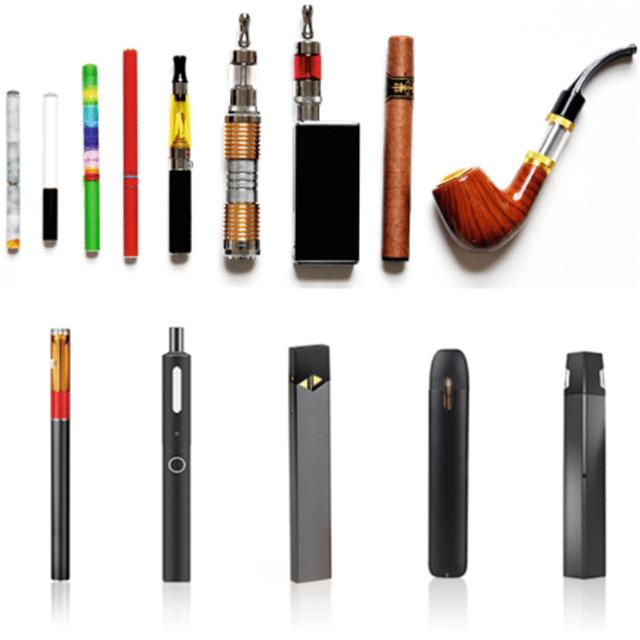Cigarette: (430, 44, 634, 255), (294, 5, 360, 264), (286, 342, 336, 584), (561, 350, 610, 580), (426, 347, 471, 578), (226, 13, 260, 258), (162, 327, 192, 580), (382, 36, 414, 260), (50, 326, 71, 582), (169, 57, 190, 267), (80, 61, 102, 258), (122, 47, 140, 266), (6, 92, 23, 254), (42, 95, 60, 248)
